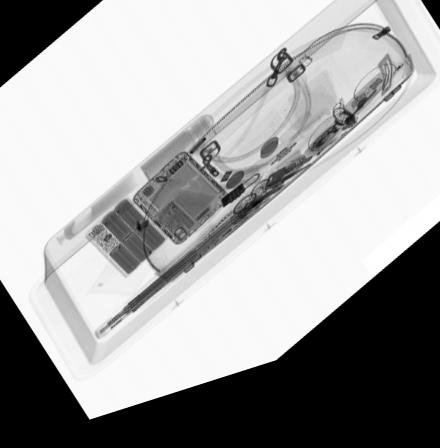Lighter: (202, 220, 261, 267)
